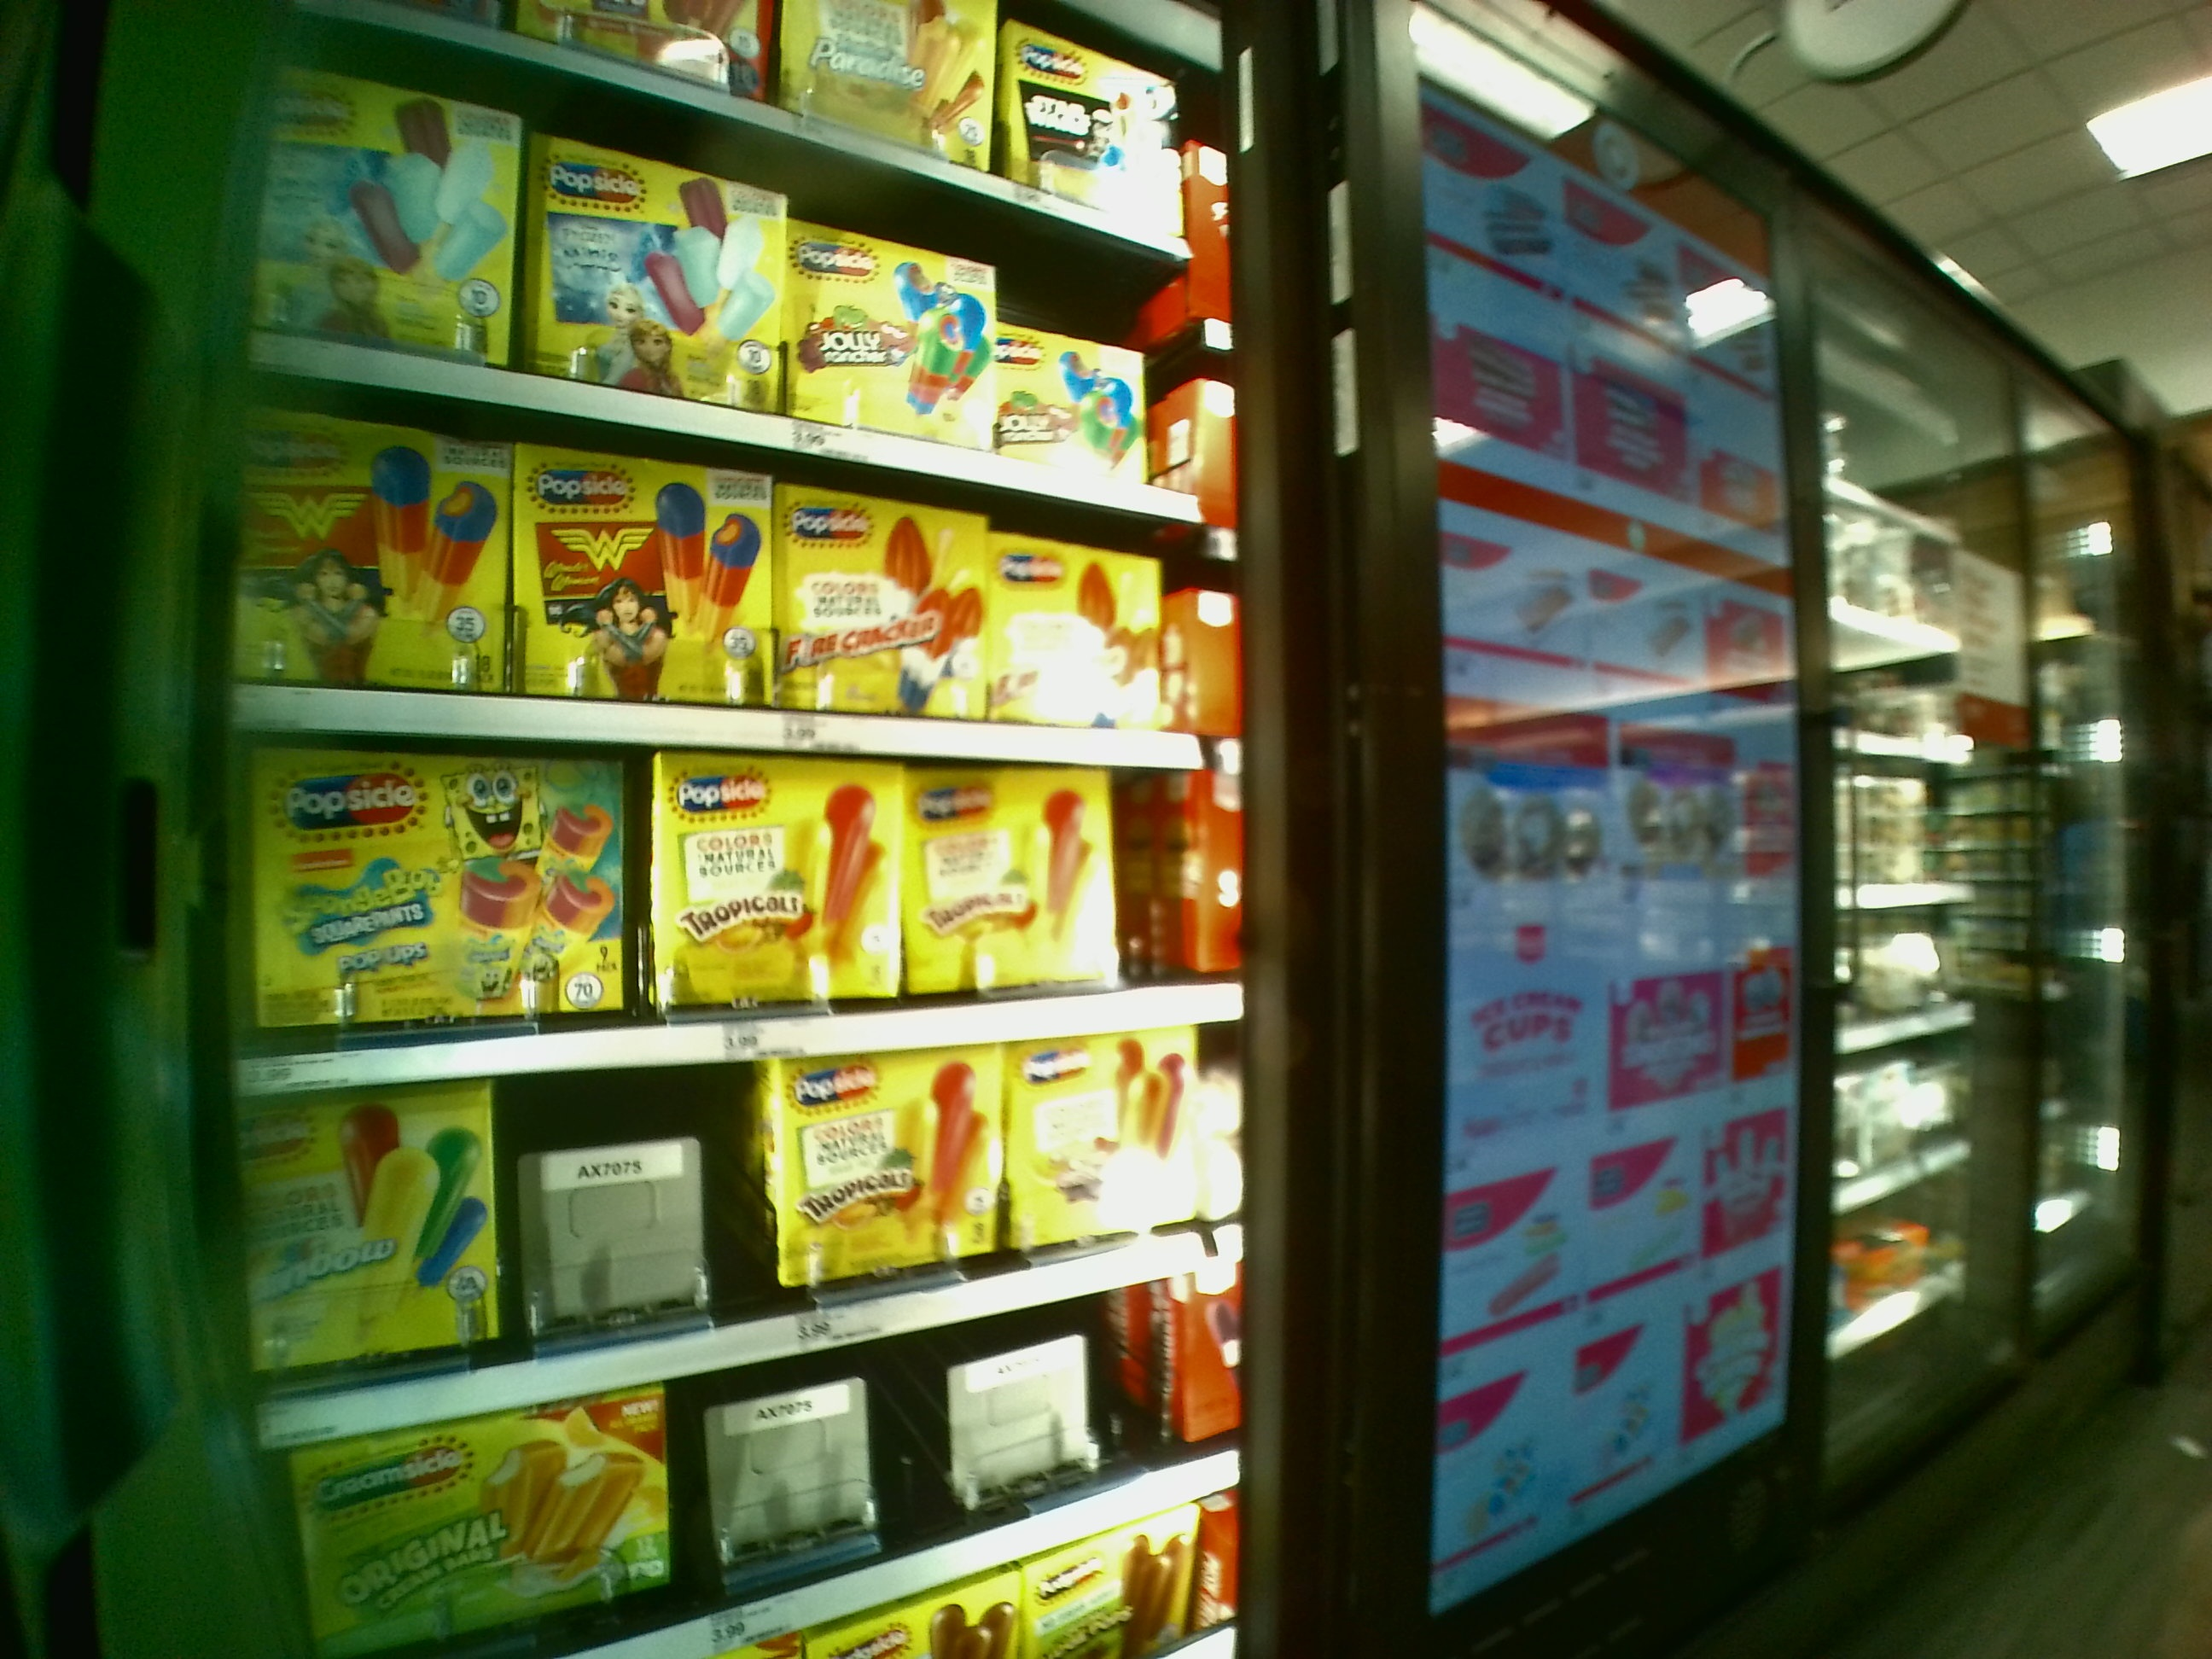shelf: (239, 767, 1235, 1086), (232, 443, 1223, 737), (275, 1293, 1237, 1596)
